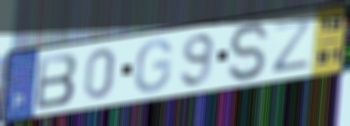0: (83, 46, 118, 102)
9: (178, 32, 217, 87)
B: (34, 51, 80, 112)
G: (132, 38, 174, 95)
S: (227, 21, 273, 84)
Z: (272, 17, 316, 75)
